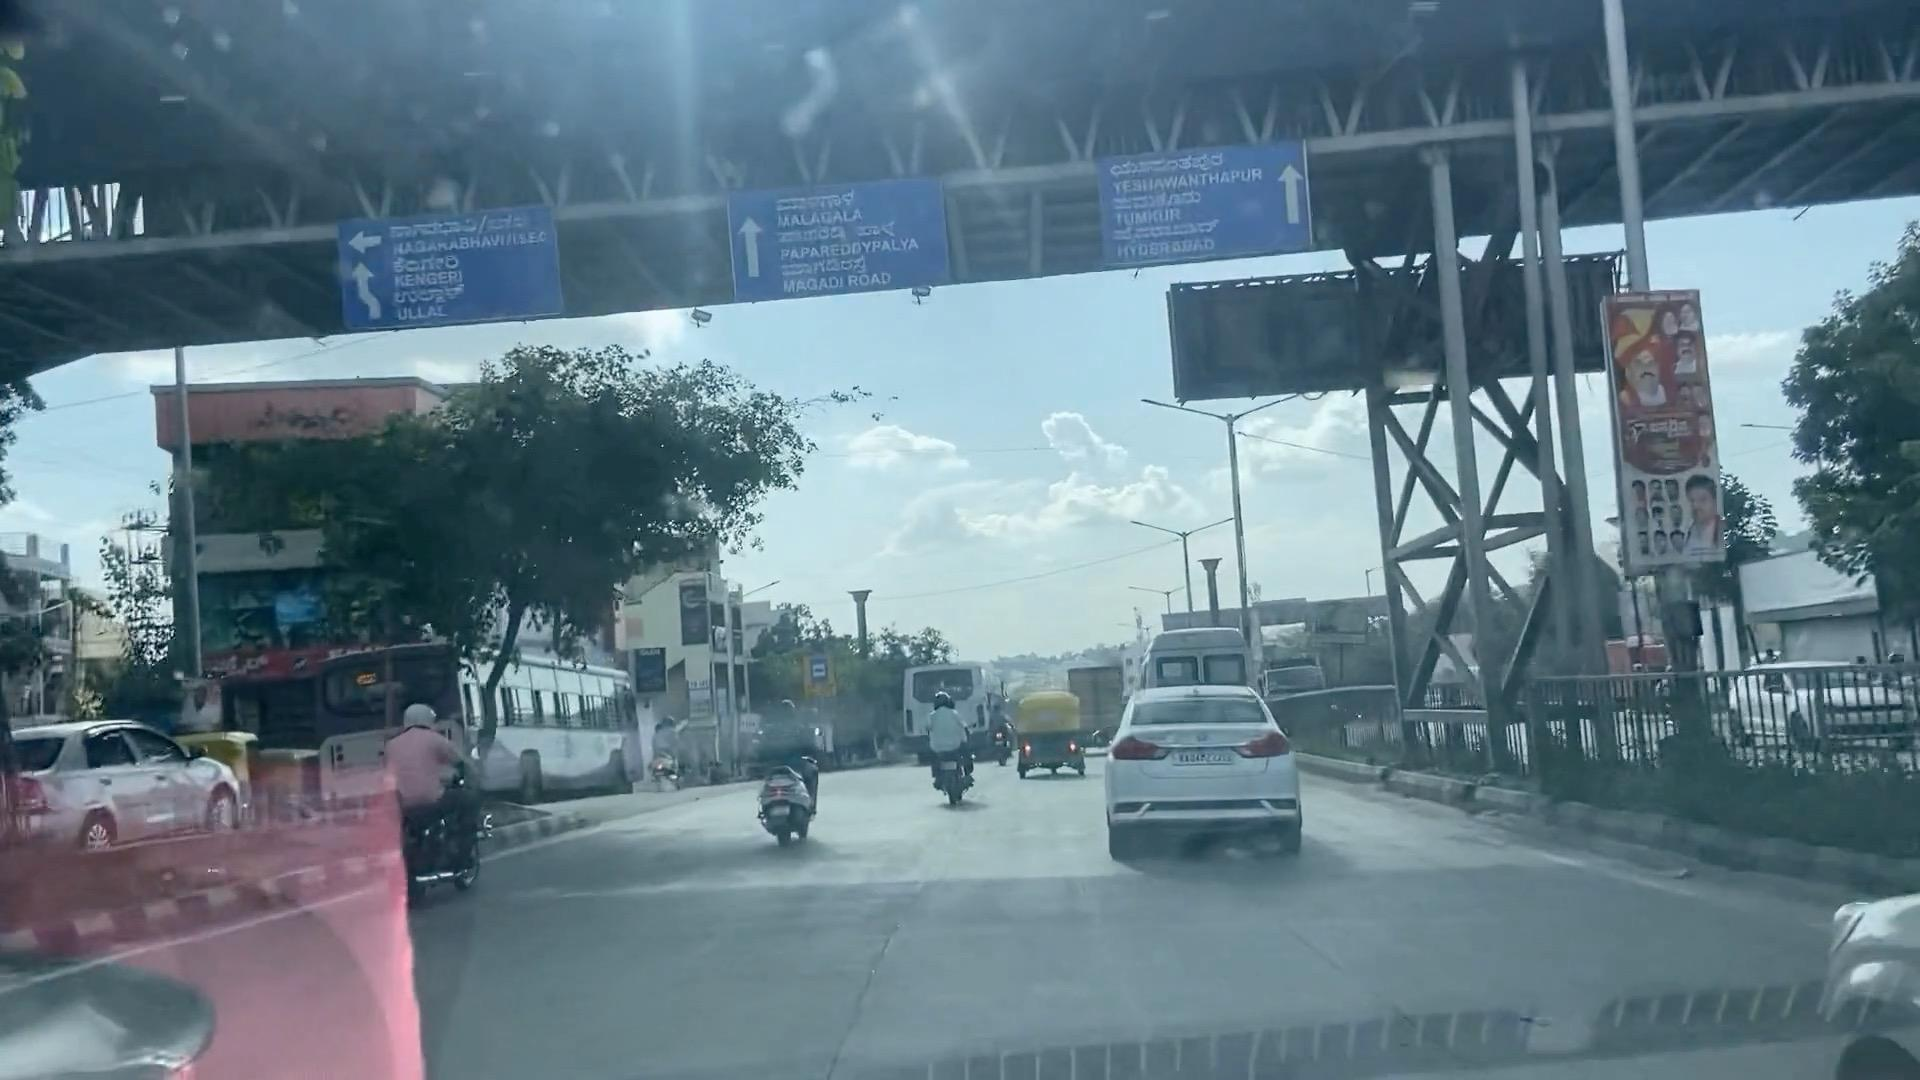LMV: (1116, 690, 1331, 851), (375, 700, 516, 895), (742, 705, 848, 852), (923, 684, 990, 807), (1025, 690, 1088, 782)
